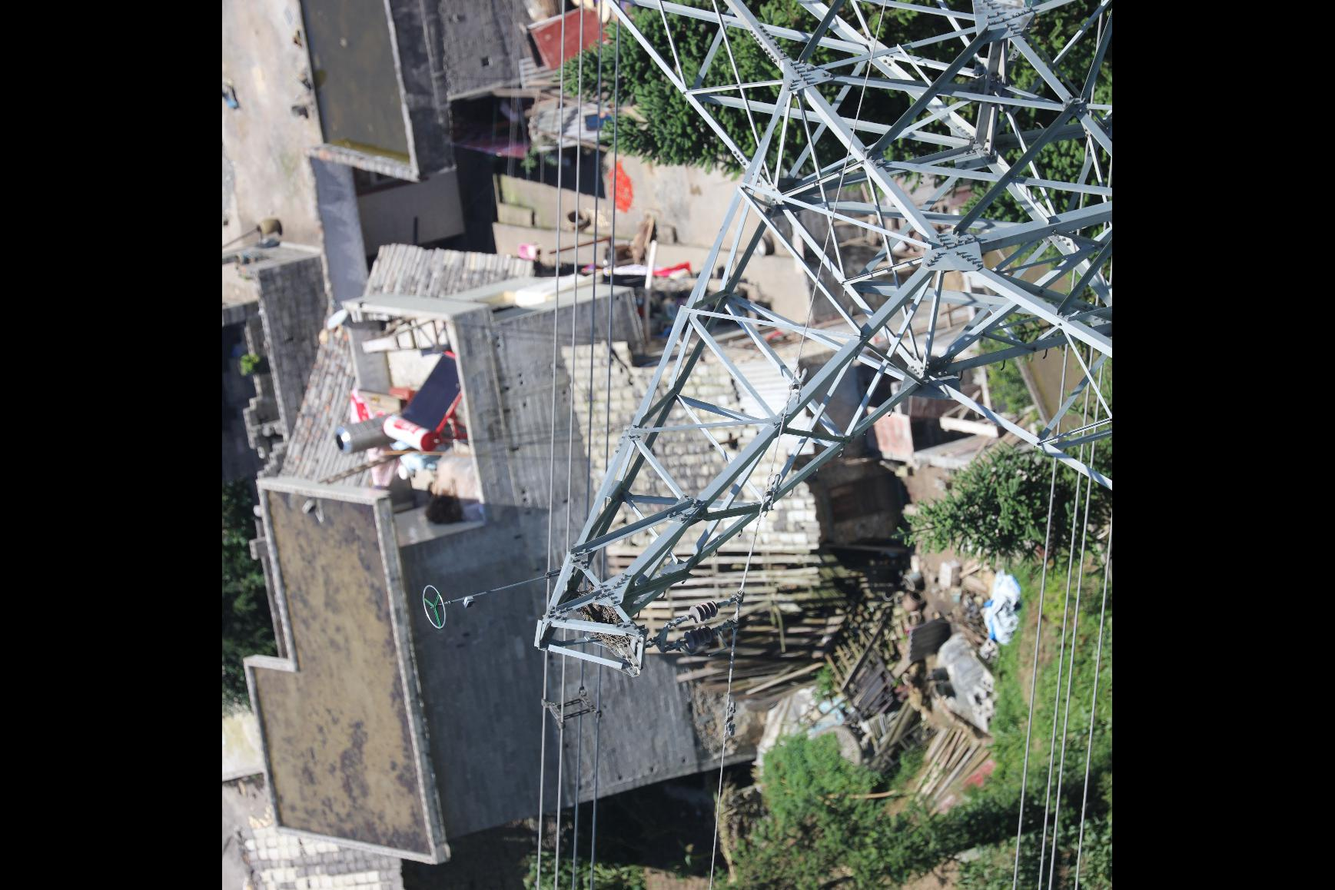damper: (785, 365, 812, 407), (761, 472, 782, 514), (722, 698, 739, 739)
nest: (580, 603, 632, 651)
